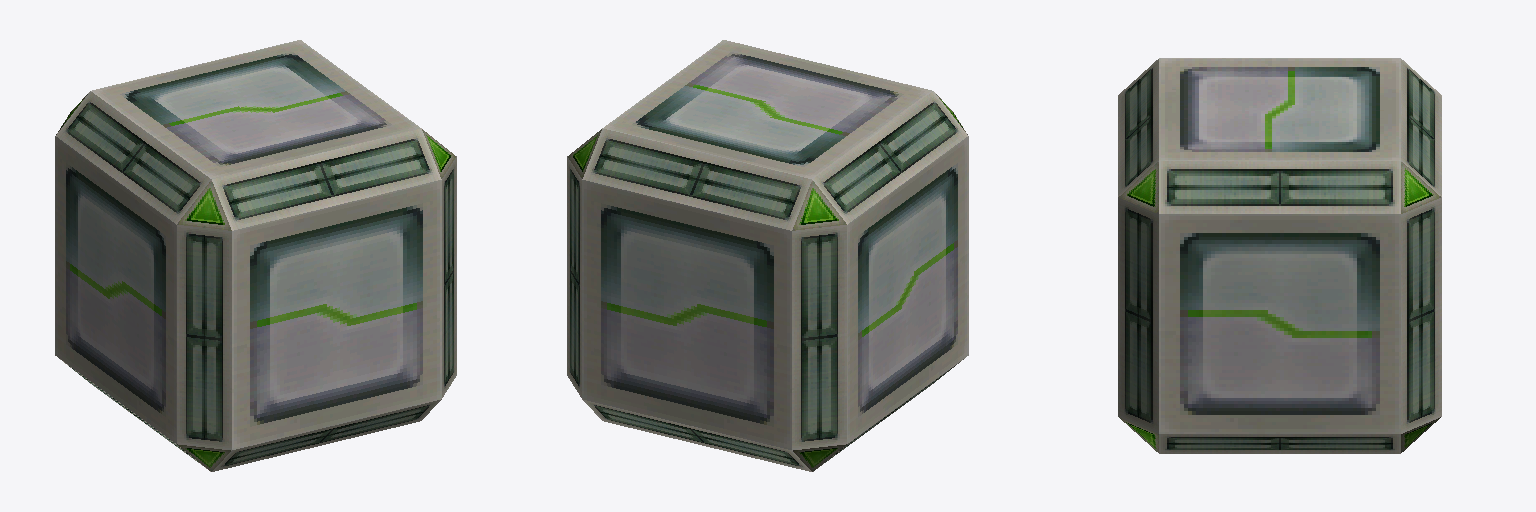
3 views of the same model, side by side, from view 1: azimuth 30°, elevation 25°; view 2: azimuth 150°, elevation 25°; view 3: azimuth 270°, elevation 25° (orthographic).
Parts seen in each view (by area): view 1: polygon0; view 2: polygon0; view 3: polygon0.
Part boxes in pixels (x1,y1,x2,y2): polygon0: (55, 40, 456, 471); polygon0: (567, 40, 968, 471); polygon0: (1118, 58, 1441, 453).
Size of the model in its own units: 15.75 by 15.75 by 15.75.
Materials: 1 (1 with a texture image).